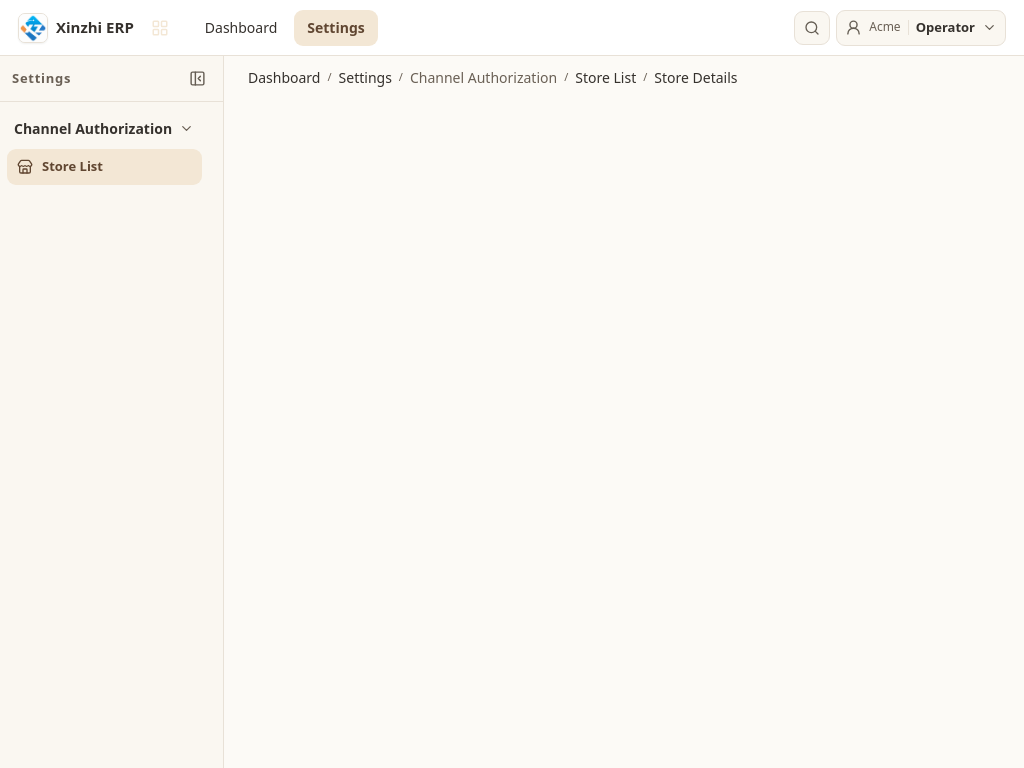
Test: AppShell logout routing › renders the complete shop-only navigation path in English
Expected: the link "Settings" in the row of "Xinzhi ERP" is shown, top-left (294, 10), bottom-right (378, 46)
Expected: the button "Channel Authorization" is shown, top-left (6, 112), bottom-right (202, 144)
Click the button with aria-label "Open account settings" at (921, 28), box top-left (836, 10), bottom-right (1006, 46)
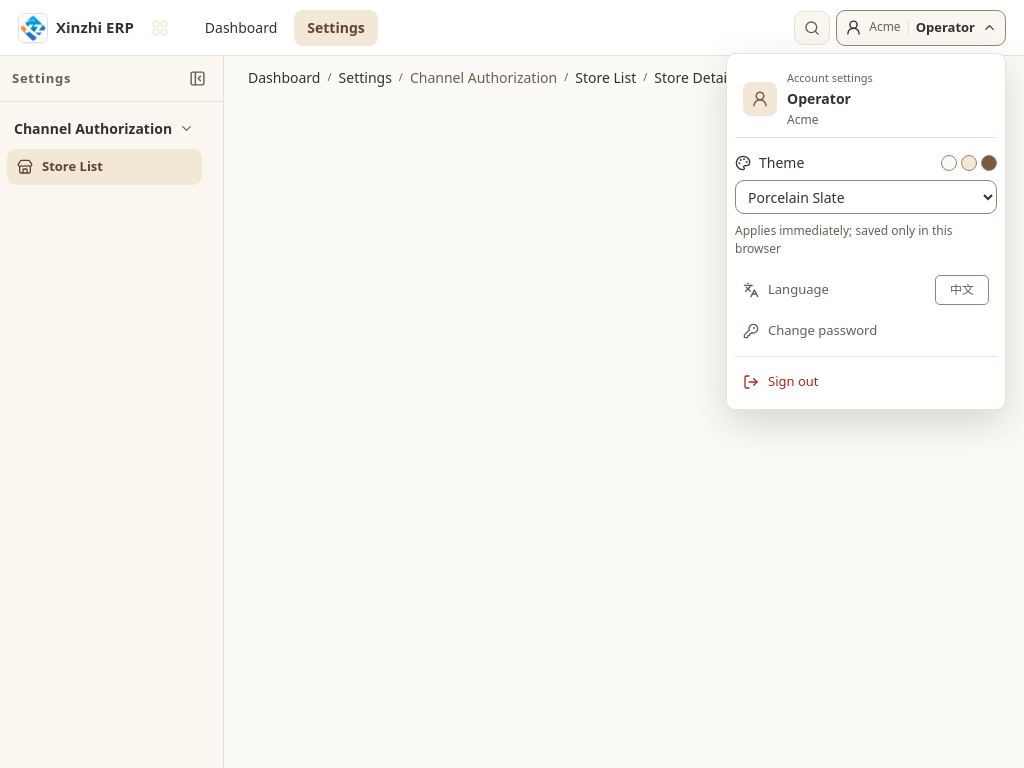
Now the element "Account settings" is shown, box top-left (726, 52), bottom-right (1006, 410)
Now the button "Change password" is shown, box top-left (735, 312), bottom-right (997, 350)
Now the button "Sign out" is shown, box top-left (735, 363), bottom-right (997, 401)
